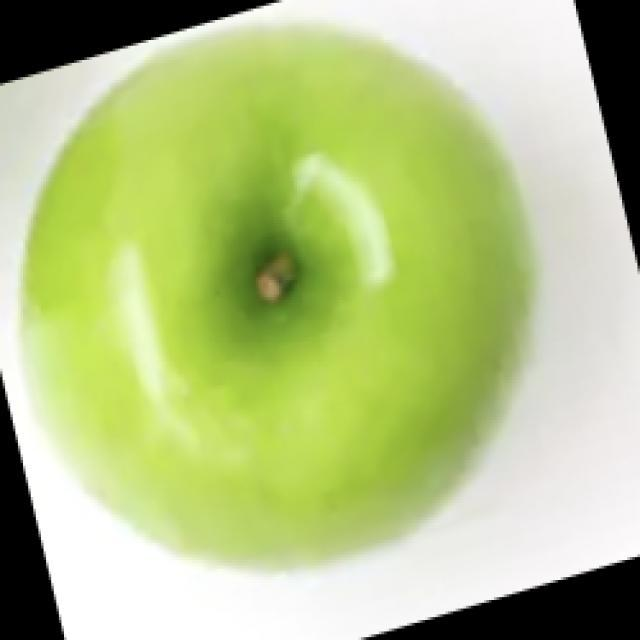Fresh Apple: (35, 27, 542, 575)
